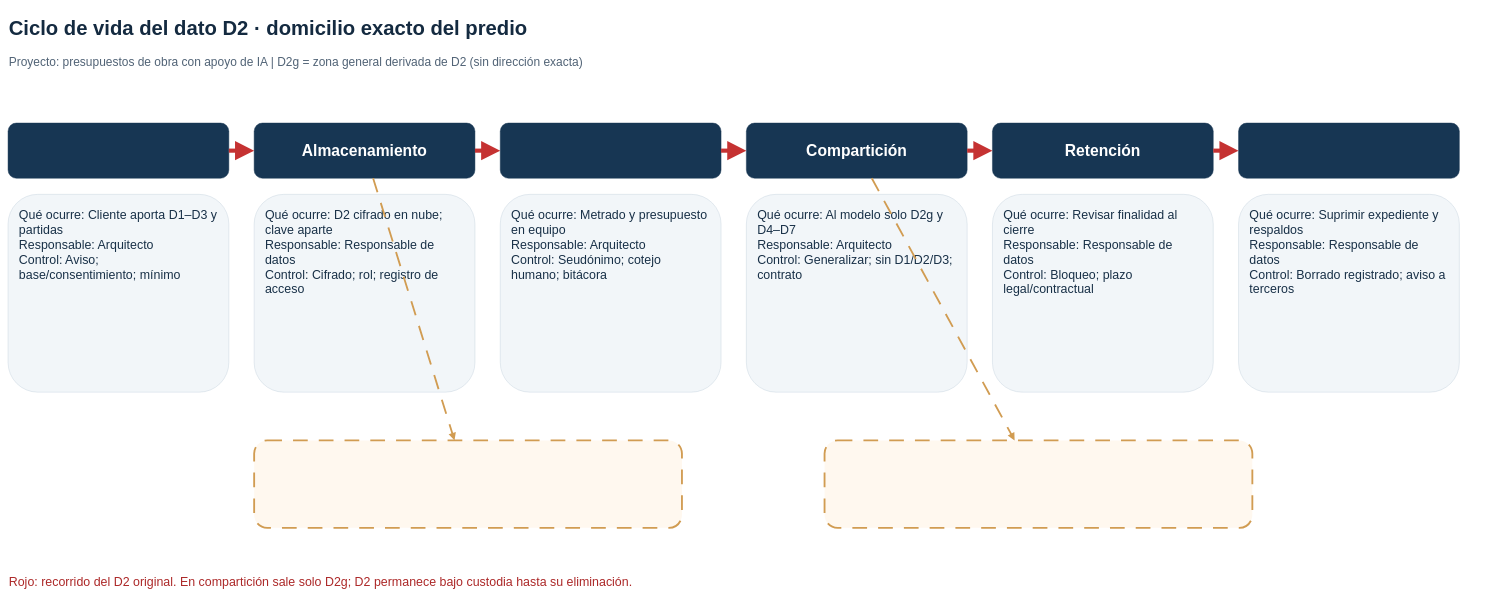
Image size: 1488x609. Some labels were removed from this diagram. The shapes that lost their labels are listed below. From the top down, each one's box as (x1, y1, x2, y2) in pixels, then its label:
(8, 123, 229, 178): Captura
(500, 123, 721, 178): Uso
(1238, 123, 1459, 178): Eliminación
(253, 439, 683, 529): TERCERO 1 · nube contratada D2 cifrado; acceso y borrado auditados
(823, 439, 1253, 529): TERCERO 2 · modelo de IA Solo D2g y partidas; sin D2 exacto
